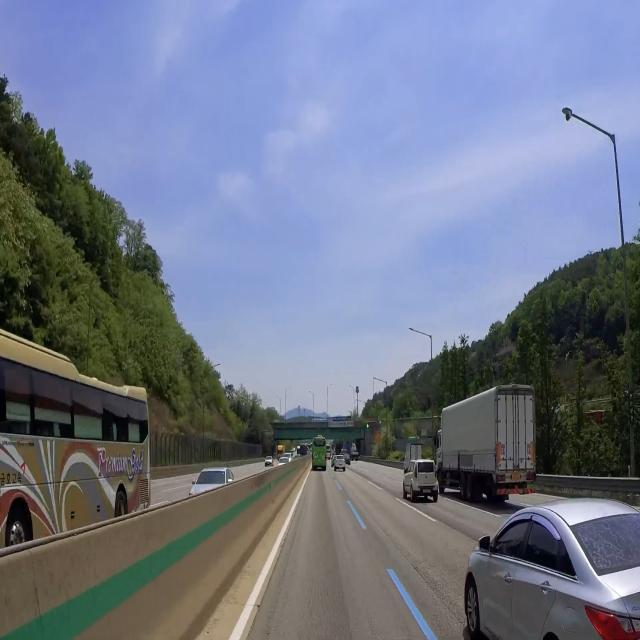car: (510, 468, 524, 485), (420, 486, 438, 498)
